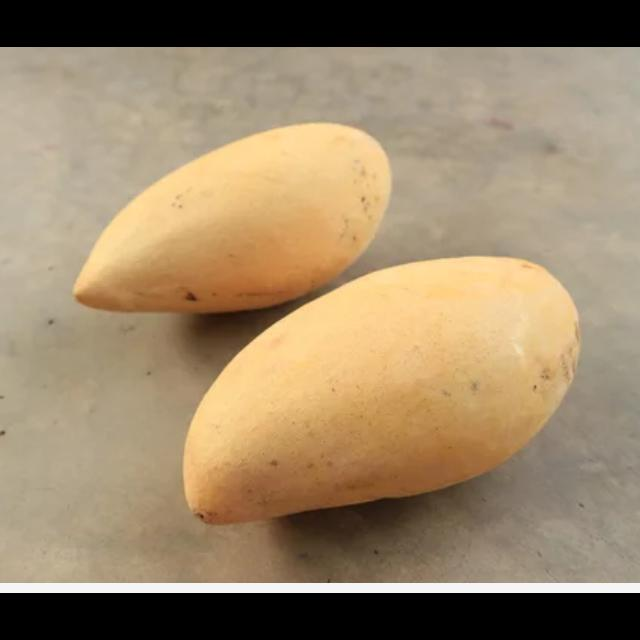mango: (185, 252, 581, 527), (70, 122, 399, 313)
